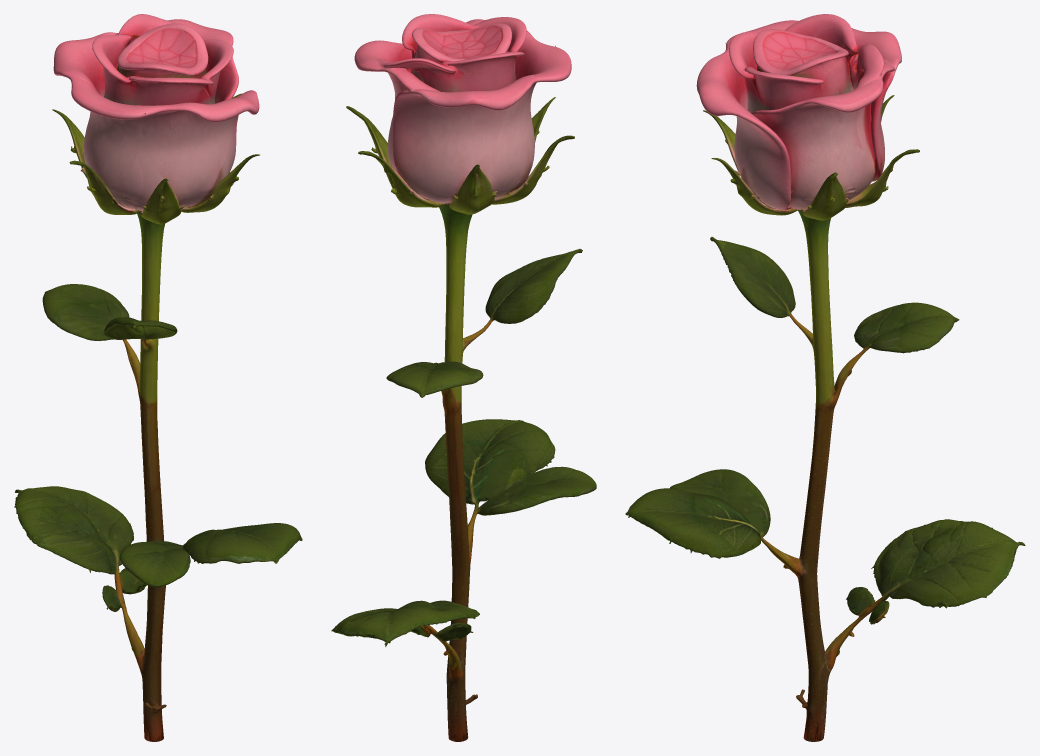
Rendered from Pink Rose 1.glb.
3 views of the same model, side by side, from view 1: azimuth 30°, elevation 25°; view 2: azimuth 150°, elevation 25°; view 3: azimuth 270°, elevation 25° (orthographic).
Visible parts, largest first — view 1: tripo_node_82858e56-f472-4b27-9195-1613a8cce407; view 2: tripo_node_82858e56-f472-4b27-9195-1613a8cce407; view 3: tripo_node_82858e56-f472-4b27-9195-1613a8cce407.
Boxes of the visible parts, box(x1,y1,x2,y2) form: tripo_node_82858e56-f472-4b27-9195-1613a8cce407: box(14, 14, 302, 741); tripo_node_82858e56-f472-4b27-9195-1613a8cce407: box(331, 14, 596, 741); tripo_node_82858e56-f472-4b27-9195-1613a8cce407: box(625, 14, 1025, 741).
Bounding box in the file's own units: 0.2956 × 0.9795 × 0.5086.
1 material, 1 textured.
